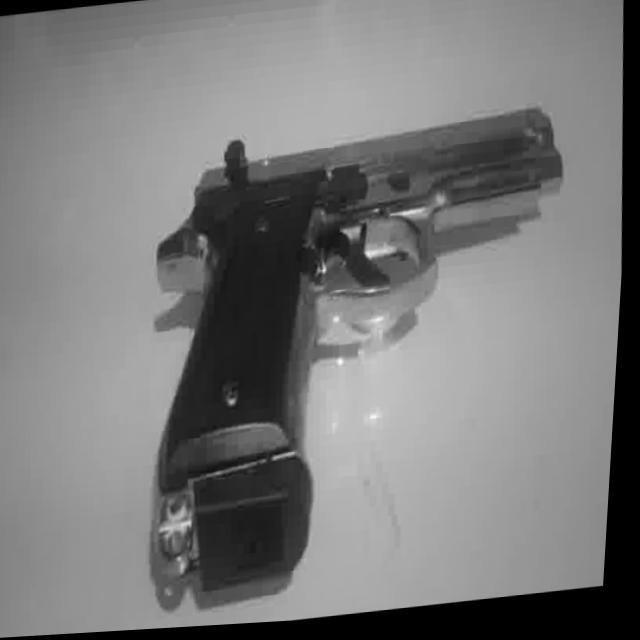weapon: (133, 105, 589, 594)
